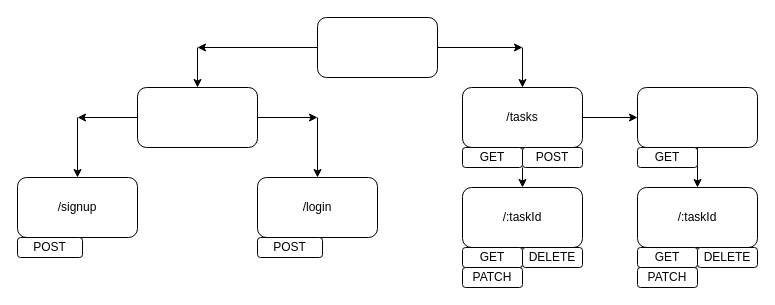
Some shapes in this 775 by 305 pixel diagram are drawn without their labels. Here are the shapes that lost their labels. From the top down, the box of each, then its label:
(316, 16, 438, 78): localhost3000:
(136, 86, 258, 148): /user
(636, 86, 758, 148): /trash
